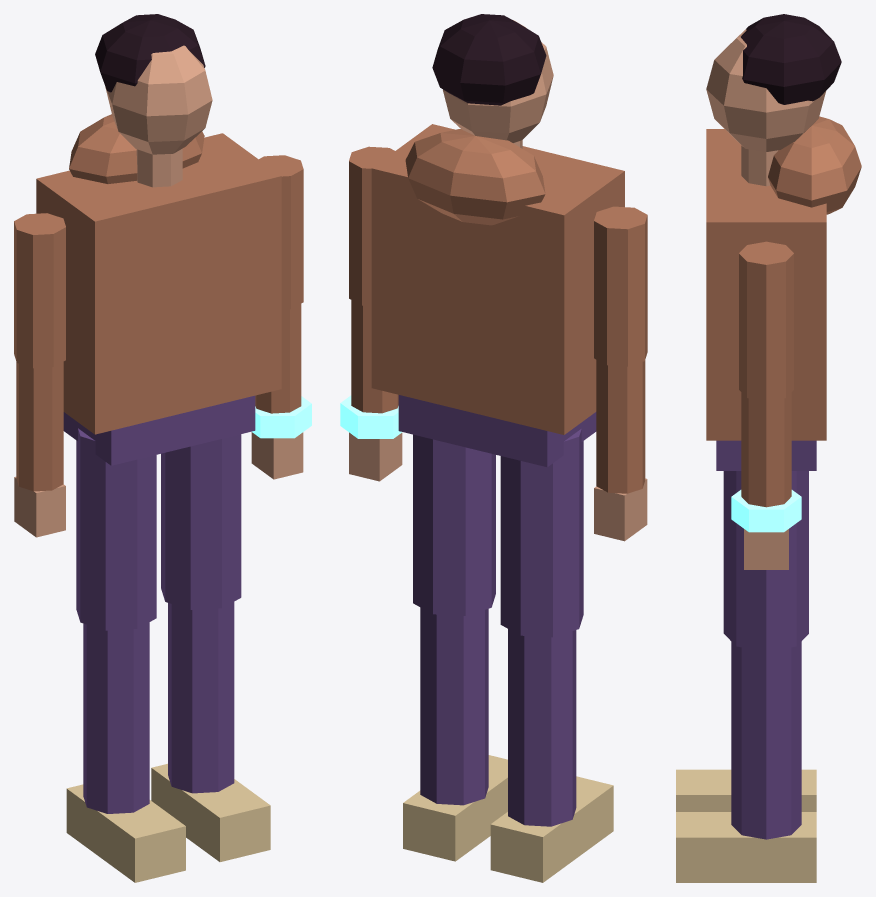
Rendered from test_figure.glb.
3 renders of one model, left to right at view 1: azimuth 30°, elevation 25°; view 2: azimuth 150°, elevation 25°; view 3: azimuth 270°, elevation 25°, orthographic. The views are drawn at different scales.
Visible parts, largest first — view 1: TestFigure; view 2: TestFigure; view 3: TestFigure.
Boxes of the visible parts, x1=… form: TestFigure: x1=14, y1=14, x2=311, y2=882; TestFigure: x1=340, y1=14, x2=647, y2=882; TestFigure: x1=676, y1=14, x2=861, y2=882.
Size of the model in its own units: 0.6756 by 1.82 by 0.37.
